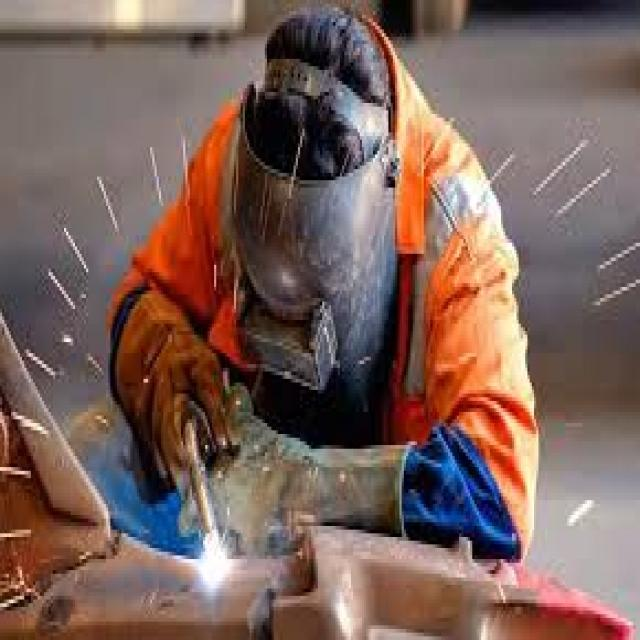reflective_jacket: (97, 11, 551, 559)
